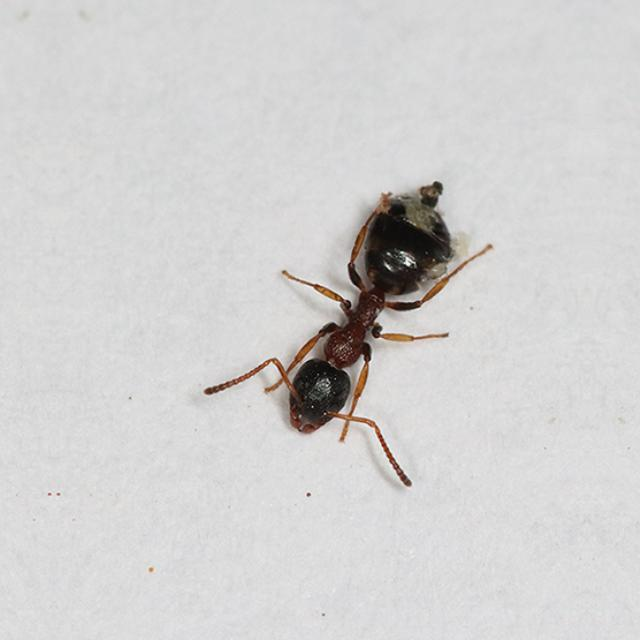Dolichoderus: (252, 160, 478, 454)
